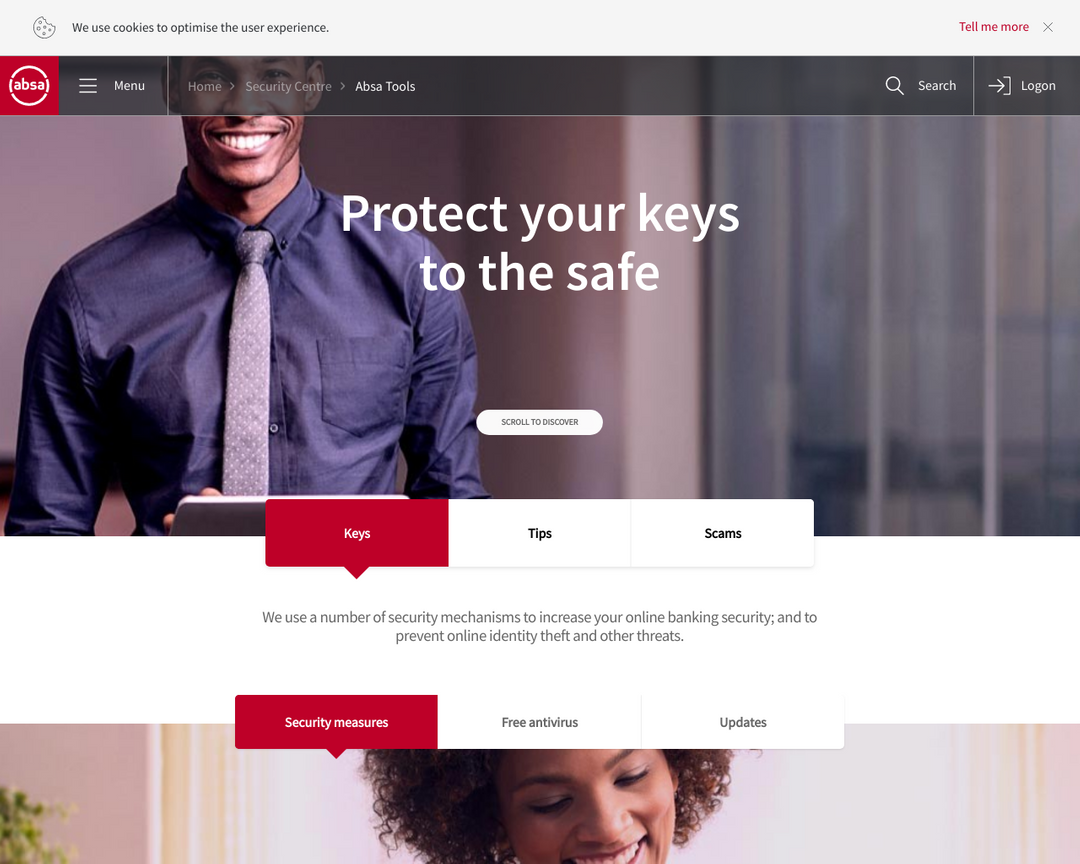ABSA: (7, 65, 52, 107)
